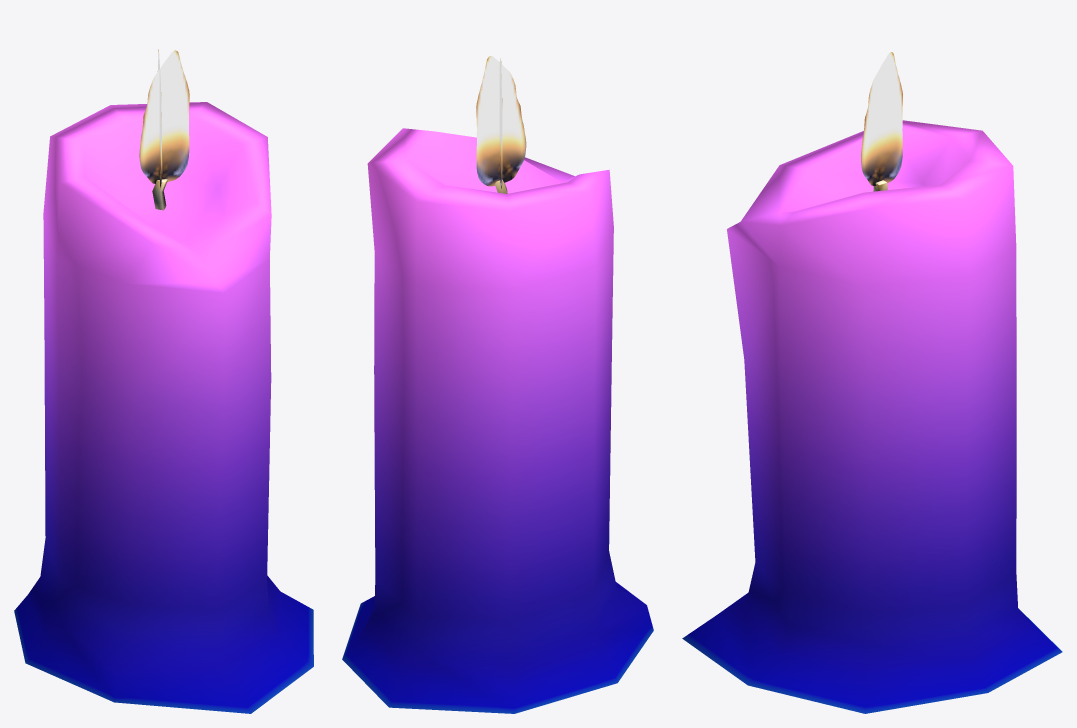
File: CandleShapeB.022.glb
3 views of the same model, side by side, from view 1: azimuth 30°, elevation 25°; view 2: azimuth 150°, elevation 25°; view 3: azimuth 270°, elevation 25° (orthographic).
Visible parts, largest first — view 1: CandleShapeB.022; view 2: CandleShapeB.022; view 3: CandleShapeB.022.
Part boxes in pixels (left/top/right/bottom): CandleShapeB.022: left=14, top=49, right=313, bottom=713; CandleShapeB.022: left=342, top=56, right=653, bottom=713; CandleShapeB.022: left=682, top=52, right=1062, bottom=713.
Size of the model in its own units: 0.0966 by 0.2031 by 0.117.
2 materials, 2 textured.
